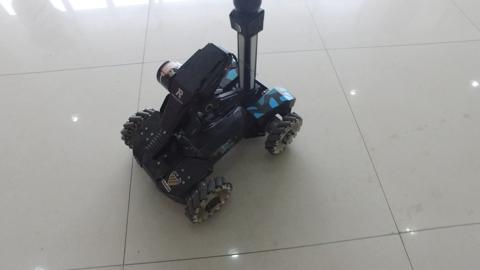chariot: (140, 10, 301, 220)
